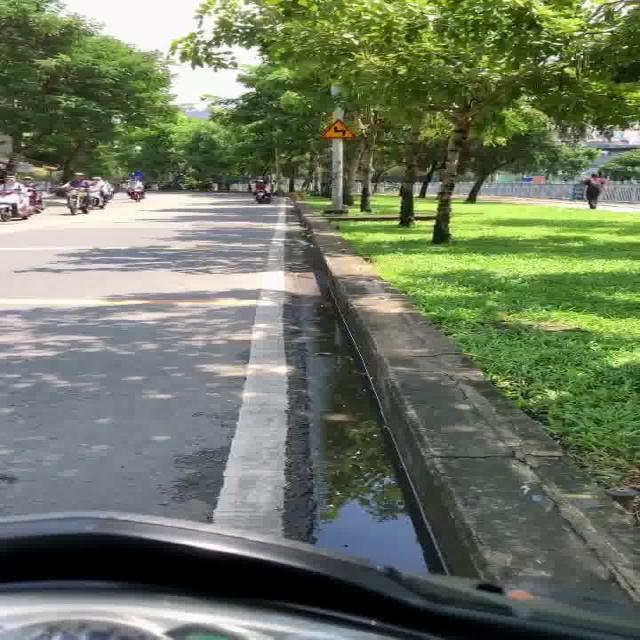Bien bao nhieu cho ngoat nguy hiem lien tiep: (314, 113, 363, 143)
